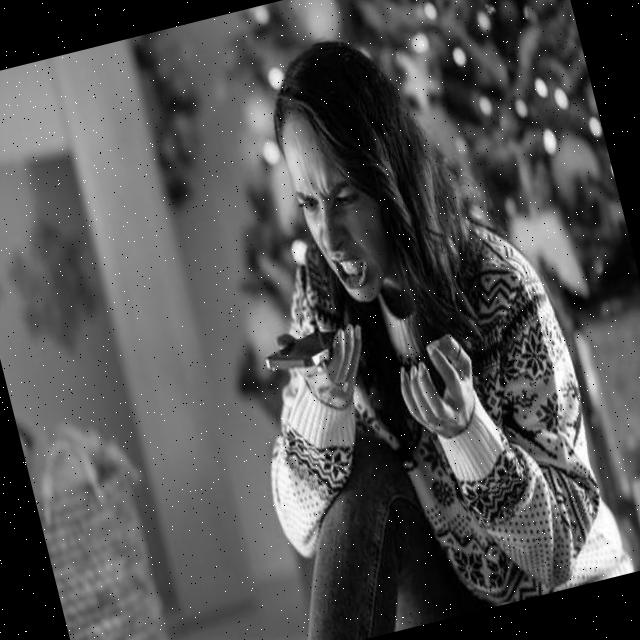Angry: (275, 102, 404, 312)
